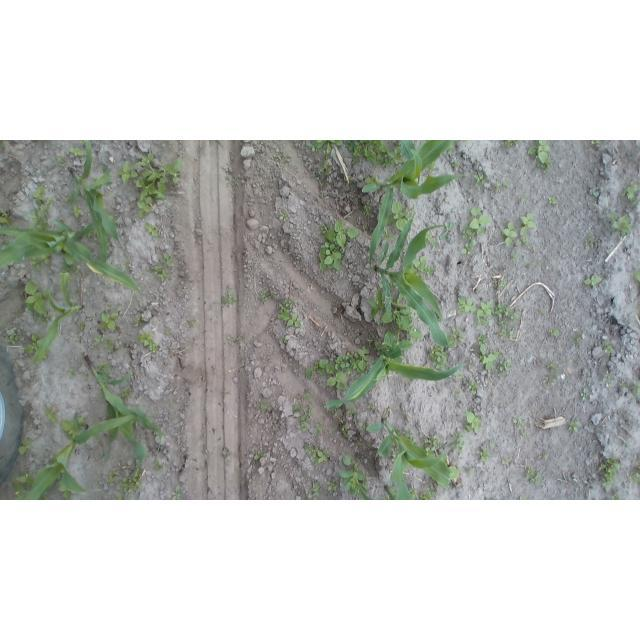Maize: (362, 140, 460, 270), (0, 217, 148, 295), (376, 211, 451, 349), (81, 352, 163, 468), (326, 342, 466, 408), (14, 412, 101, 501), (366, 418, 452, 499), (69, 140, 123, 265), (34, 270, 83, 367), (352, 469, 371, 500), (383, 485, 396, 500)
Weeds: (119, 153, 182, 218), (305, 346, 369, 389), (320, 217, 356, 269), (348, 140, 402, 169), (382, 307, 426, 340), (339, 455, 370, 496), (22, 279, 50, 317), (462, 206, 490, 239), (495, 304, 519, 340), (373, 332, 413, 352), (541, 357, 567, 386), (28, 199, 51, 228), (278, 298, 300, 328), (120, 469, 145, 495), (368, 286, 387, 319), (610, 210, 634, 235), (599, 457, 617, 490), (392, 202, 411, 233), (478, 346, 502, 370), (527, 140, 551, 164), (304, 444, 330, 464), (61, 418, 88, 437), (291, 391, 313, 414), (315, 141, 348, 156), (478, 300, 495, 329), (10, 472, 32, 493), (429, 346, 447, 371), (464, 411, 485, 432), (98, 311, 120, 331), (139, 331, 158, 354), (334, 416, 352, 440), (621, 181, 640, 203), (521, 212, 538, 236), (453, 429, 468, 455), (503, 222, 518, 248), (459, 296, 478, 316), (413, 257, 433, 276), (221, 286, 239, 304), (526, 466, 543, 485), (306, 480, 322, 500), (498, 360, 514, 380), (447, 328, 464, 346), (298, 414, 311, 437), (574, 333, 590, 351), (424, 438, 441, 454), (477, 447, 492, 465), (439, 221, 454, 239), (143, 221, 159, 237), (603, 340, 618, 357), (24, 335, 38, 353), (18, 438, 31, 456), (45, 409, 58, 426), (4, 329, 18, 344), (474, 171, 489, 185), (323, 159, 337, 173), (495, 280, 510, 293), (154, 266, 167, 281), (366, 175, 385, 185), (585, 275, 602, 286), (257, 398, 271, 411), (461, 241, 474, 255), (170, 485, 182, 500), (224, 174, 236, 188), (259, 290, 273, 302), (164, 253, 175, 268), (570, 419, 582, 432), (58, 486, 70, 499), (97, 361, 112, 371), (69, 148, 85, 157), (588, 184, 600, 196), (586, 234, 598, 246), (629, 472, 640, 485), (32, 187, 45, 198), (540, 162, 553, 173), (1, 211, 12, 223), (41, 254, 52, 266), (469, 381, 479, 394), (405, 428, 416, 439), (76, 319, 88, 329), (315, 423, 325, 435), (326, 479, 338, 489), (581, 387, 589, 402), (513, 418, 525, 428), (279, 210, 289, 222), (632, 381, 640, 395), (104, 337, 115, 347), (317, 178, 328, 188), (362, 420, 372, 431), (612, 492, 624, 501), (107, 472, 116, 484), (92, 334, 100, 347), (427, 486, 437, 496), (153, 461, 163, 471), (223, 165, 234, 174), (364, 206, 373, 217), (478, 336, 489, 345), (510, 251, 519, 262), (121, 388, 132, 397), (397, 291, 404, 305), (418, 493, 432, 500), (135, 314, 143, 326), (32, 257, 40, 269), (504, 140, 523, 145), (426, 235, 436, 244), (72, 207, 80, 218), (255, 452, 264, 461), (451, 161, 460, 170), (348, 407, 356, 417), (537, 452, 547, 460), (502, 458, 512, 466), (187, 319, 197, 327), (634, 269, 640, 282), (493, 183, 500, 194), (165, 327, 172, 337), (590, 140, 604, 145), (619, 380, 627, 388), (489, 441, 497, 449), (552, 328, 560, 336), (549, 196, 557, 204), (68, 368, 76, 376), (410, 488, 417, 497), (83, 372, 90, 381), (454, 373, 464, 379), (109, 347, 119, 353), (604, 371, 612, 378), (453, 390, 461, 397), (539, 308, 547, 315), (534, 247, 542, 254), (115, 492, 122, 500), (56, 157, 65, 163), (465, 468, 472, 475), (527, 261, 535, 267), (389, 281, 395, 287), (515, 240, 522, 245), (504, 182, 511, 187), (279, 340, 285, 345), (521, 432, 526, 438), (524, 237, 529, 243), (539, 261, 544, 266), (522, 196, 527, 201), (635, 461, 640, 466), (637, 302, 640, 310), (79, 142, 84, 145), (460, 141, 469, 142)
